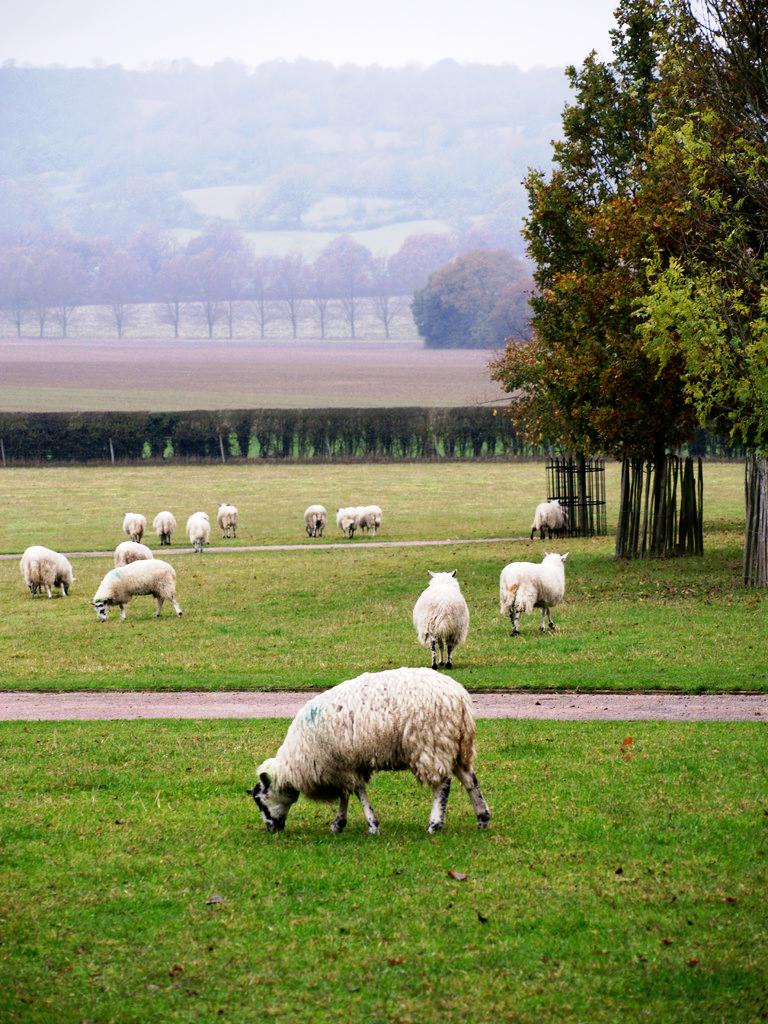Sheep: (231, 664, 499, 839), (404, 564, 470, 672), (492, 548, 570, 639), (88, 559, 188, 622), (19, 543, 79, 600), (530, 495, 570, 543), (110, 540, 157, 568), (186, 509, 212, 554), (214, 501, 240, 539), (303, 503, 329, 539), (120, 511, 146, 544), (359, 503, 383, 538), (153, 510, 176, 546), (337, 505, 359, 541)
